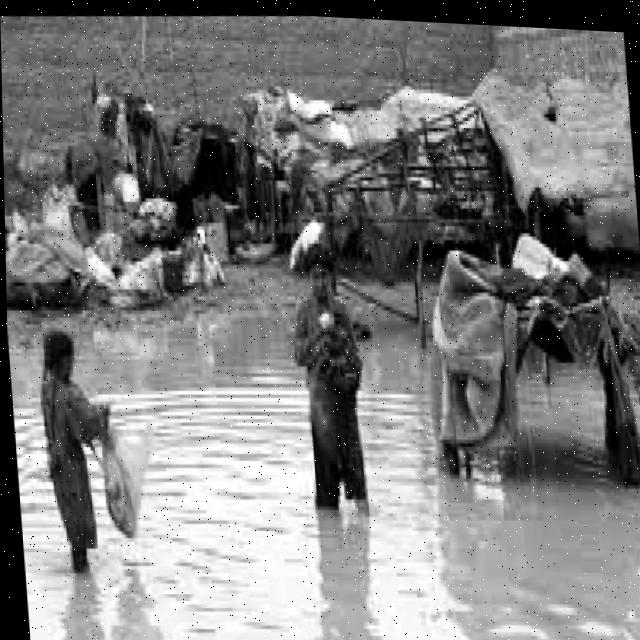civilian: (13, 292, 170, 585), (280, 229, 396, 535)
